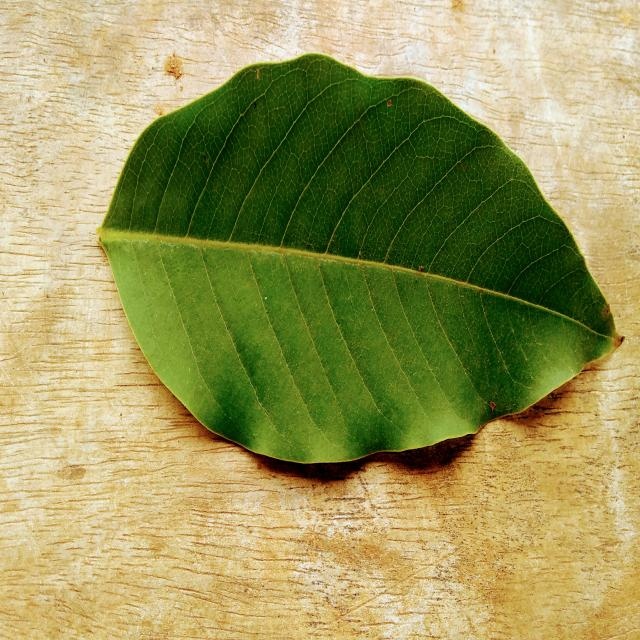sampige: (99, 56, 621, 462)
